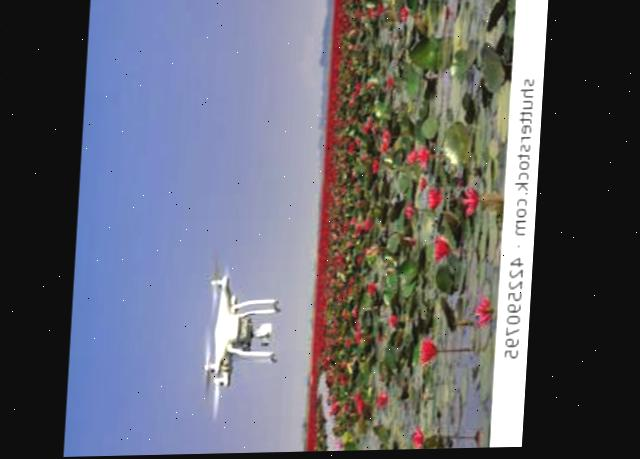drone: (184, 234, 295, 444)
